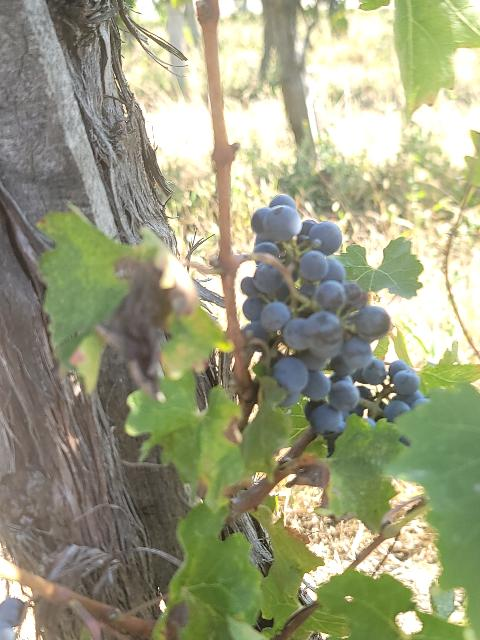grapes: (241, 195, 390, 441)
